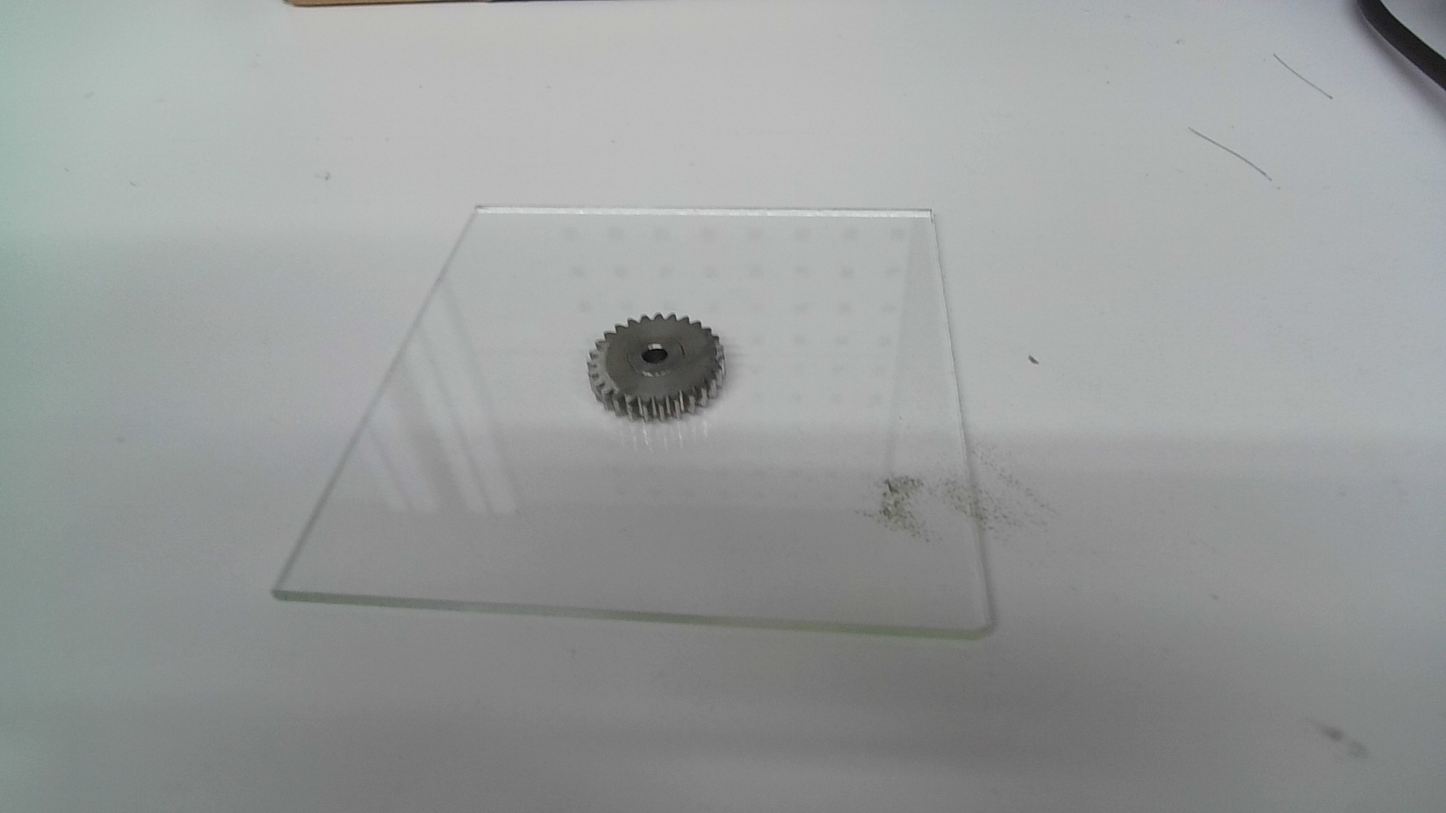gear: (583, 310, 728, 423), (585, 311, 726, 422)
